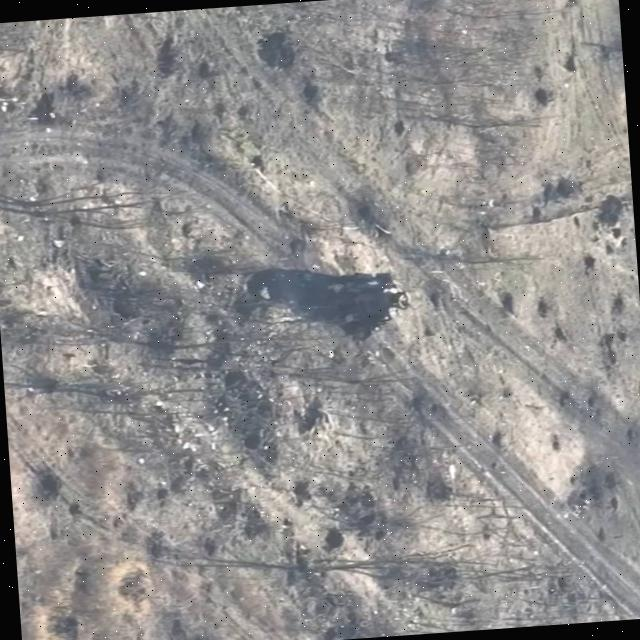Vehicle: (329, 268, 417, 336)
